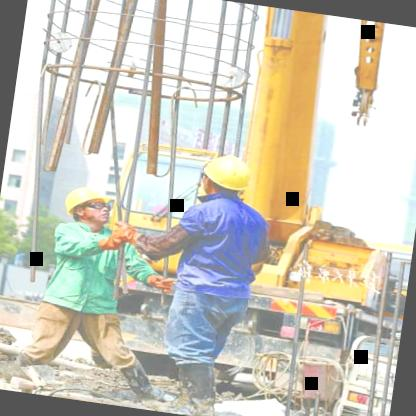helmet: (191, 145, 258, 207), (58, 181, 118, 231)
